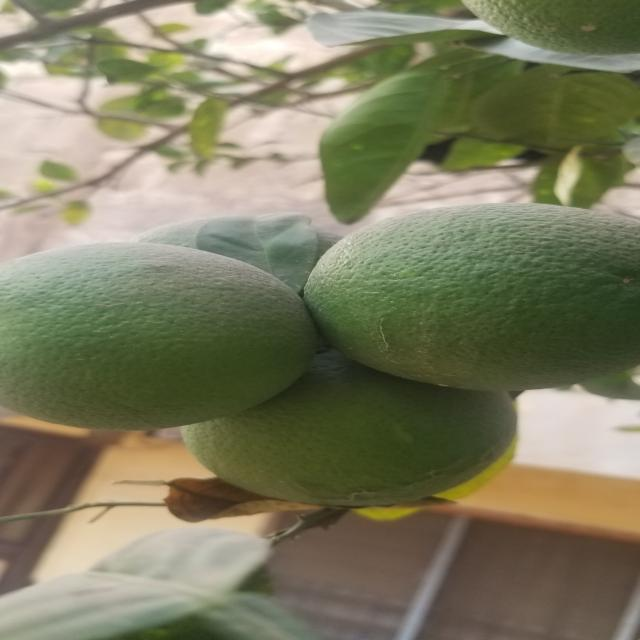Unripe: (7, 233, 323, 435), (307, 200, 640, 389), (183, 372, 522, 514), (454, 0, 640, 54)
